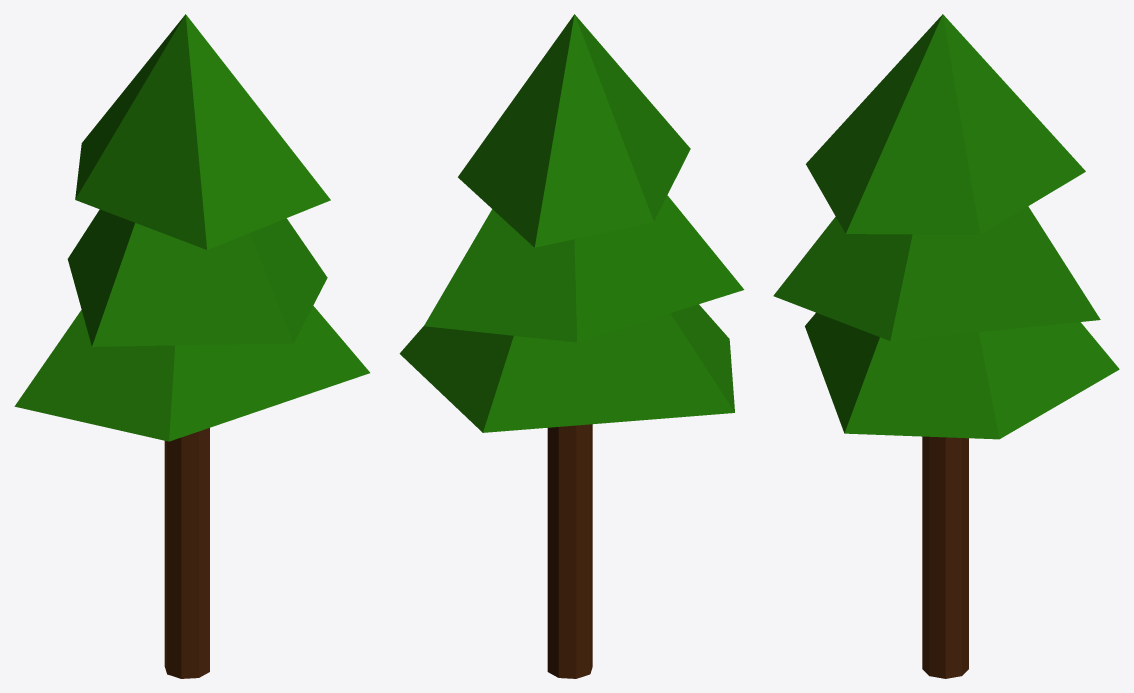
Rendered from tree.fbx.
3 renders of one model, left to right at view 1: azimuth 30°, elevation 25°; view 2: azimuth 150°, elevation 25°; view 3: azimuth 270°, elevation 25°, orthographic.
Visible parts, largest first — view 1: tree; view 2: tree; view 3: tree.
Part boxes in pixels (x1,y1,x2,y2): tree: (14, 14, 369, 678); tree: (399, 14, 744, 678); tree: (773, 14, 1119, 678).
Size of the model in its own units: 719 by 1440 by 692.
